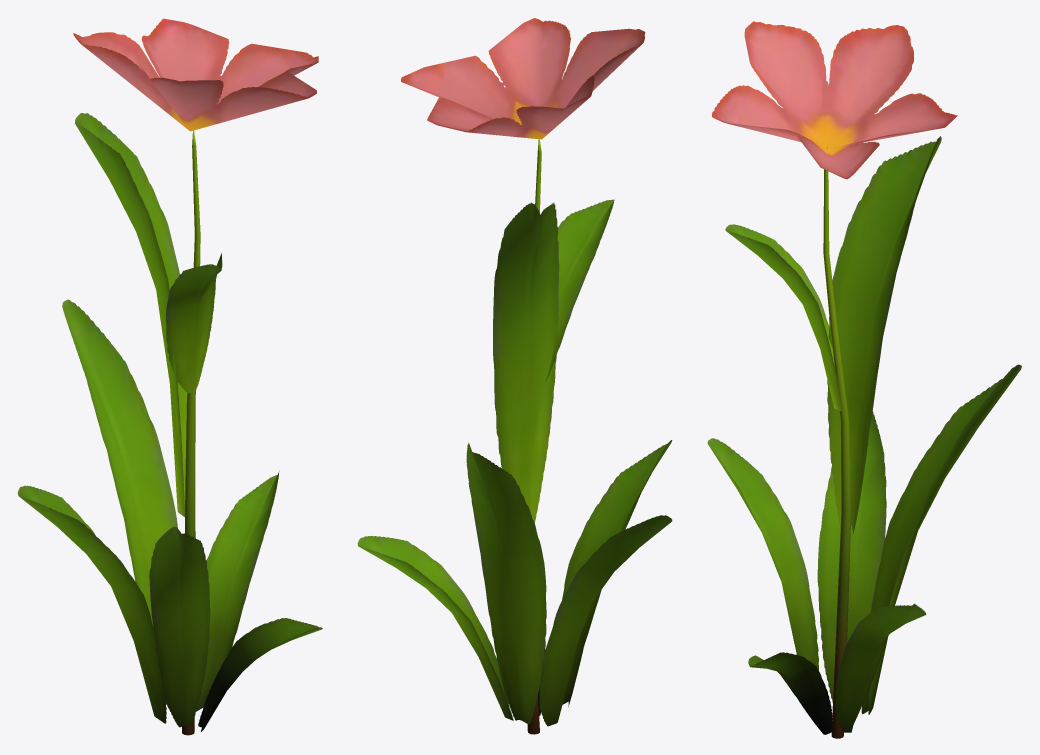
Rendered from Flower_3_Single.glb.
3 renders of one model, left to right at view 1: azimuth 30°, elevation 25°; view 2: azimuth 150°, elevation 25°; view 3: azimuth 270°, elevation 25°, orthographic. The views are drawn at different scales.
Visible parts, largest first — view 1: Flower_3_Single; view 2: Flower_3_Single; view 3: Flower_3_Single.
Part boxes in pixels (x1,y1,x2,y2): Flower_3_Single: (17,18,322,735); Flower_3_Single: (357,18,672,734); Flower_3_Single: (707,21,1021,738).
Size of the model in its own units: 0.9066 by 2.07 by 0.8775.
Materials: 2 (2 with a texture image).
